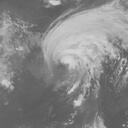cyclone: (41, 1, 122, 81)
